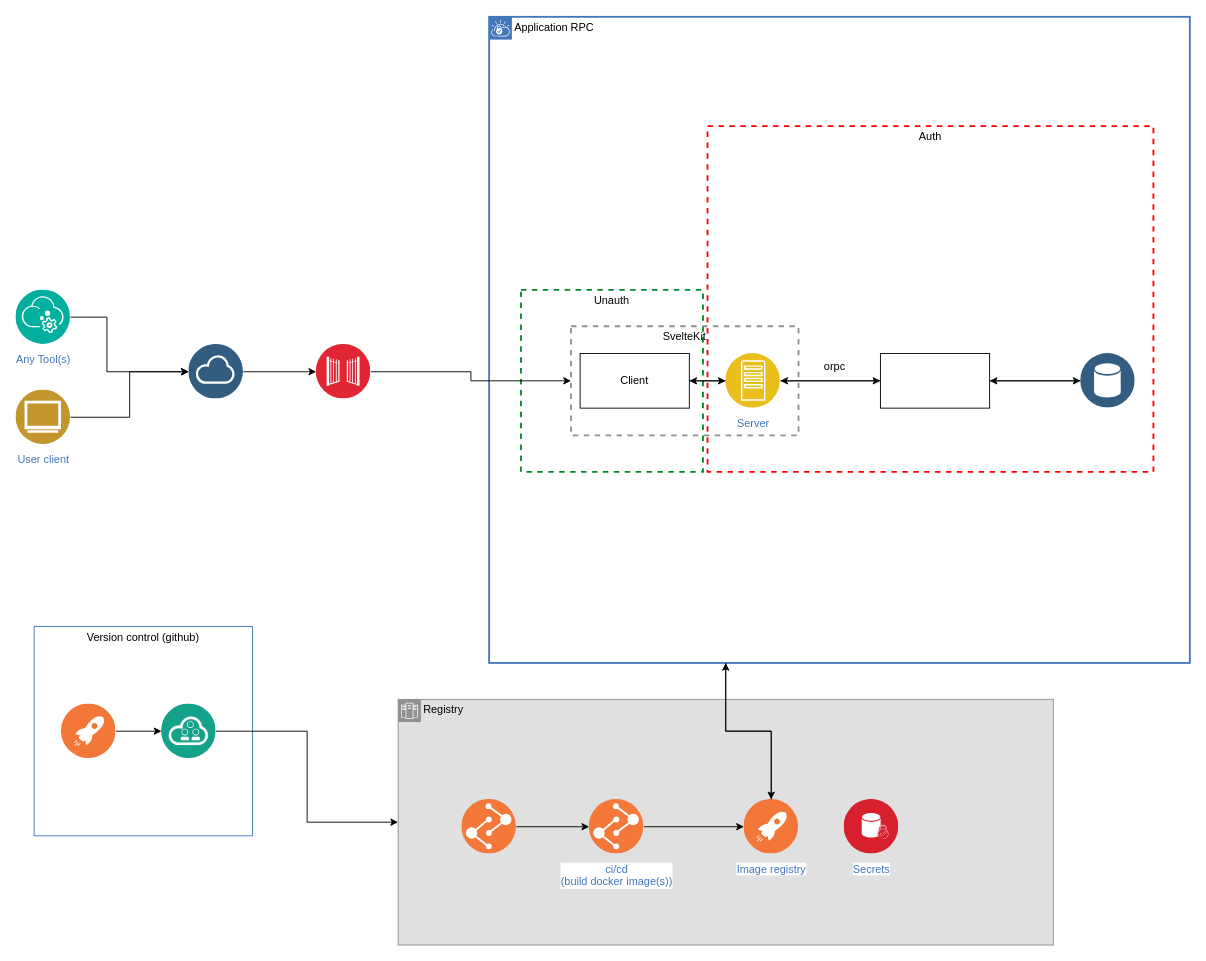
This 1206x961 diagram has some shape labels left out. The shapes that lost their labels are listed below. From the top down, each one's centre as x and y in pixels, then its label:
(x=215, y=371): DNS
(x=343, y=371): NGINX
(x=935, y=380): Module (Any language)
(x=1107, y=380): db
(x=88, y=730): Github actions
(x=188, y=730): Cloud SDK
(x=488, y=826): ci/cd (test)
